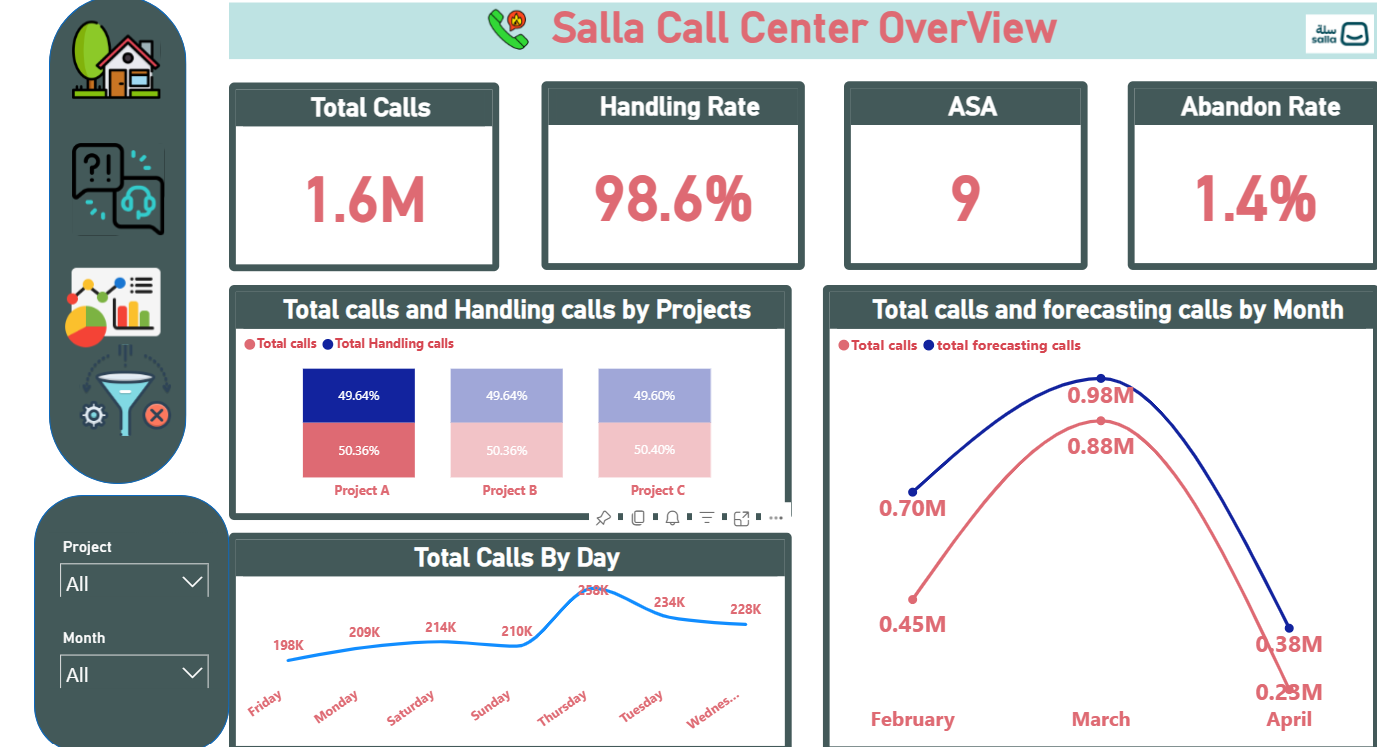

What the dashboard file says about the page in this screenshot:
{"tool":"powerbi","page":{"name":"Overview","canvas":[1280,720],"ordinal":1},"visuals":[{"type":"actionButton","title":"Salla Call Center OverView","box":[182.2,7.3,1073.6,52.6],"z":0},{"type":"actionButton","box":[1045,0,210,72.5],"z":1000},{"type":"actionButton","box":[417,7.3,302,50.1],"z":2000},{"type":"card","title":"Total Calls","fields":{"Values":["Calender.Total calls"]},"box":[182.2,81.9,251.9,176.1],"z":3000},{"type":"card","title":"Abandon Rate","fields":{"Values":["Calender.Abandon Rate"]},"box":[1019.8,80.7,236,176.1],"z":4000},{"type":"card","title":"ASA ","fields":{"Values":["Calender.All ASA"]},"box":[755.7,80.7,227.4,176.1],"z":5000},{"type":"card","title":"Handling Rate","fields":{"Values":["Calender.Handling Rate"]},"box":[473.2,80.7,245.8,176.1],"z":6000},{"type":"hundredPercentStackedColumnChart","title":"Total calls and Handling calls by Projects","fields":{"Category":["Apr.Project"],"Y":["Calender.Total calls","Calender.Total Handling calls"]},"box":[182.2,270.2,524.6,218.9],"z":7000},{"type":"lineChart","title":"Total calls and  forecasting calls by Month","fields":{"Category":["Calender.Date.Variation.Date Hierarchy.Month"],"Y":["Calender.Total calls","Calender.total forecasting calls"]},"box":[736.1,270.2,519.7,437.8],"z":8000},{"type":"lineChart","title":"Total Calls By Day","fields":{"Category":["Calender.Name of the day"],"Y":["Calender.Total calls"]},"box":[182.2,501.4,524.6,206.7],"z":9000},{"type":"shape","box":[13.5,0,128.4,456.1],"z":10000},{"type":"actionButton","box":[31.8,14.7,160.2,90.5],"z":11000},{"type":"actionButton","box":[31.8,134.5,178.5,94.2],"z":12000},{"type":"actionButton","box":[22,239.7,239.7,102.7],"z":14000},{"type":"shape","box":[0,465.9,182.2,242.1],"z":15000},{"type":"actionButton","box":[38.1,322.1,207.8,93.5],"z":16000},{"type":"slicer","fields":{"Values":["Calender.Date.Variation.Date Hierarchy.Month"]},"box":[13.5,587,159,59.9],"z":17000},{"type":"slicer","fields":{"Values":["Mar.Project"]},"box":[13.5,501.4,159,59.9],"z":18000}]}

Visuals, with their boxes in screenshot pixels (x1, y1, x2, y2):
"Salla Call Center OverView" actionButton: select_region(229, 1, 1366, 56)
actionButton: select_region(1143, 0, 1365, 70)
actionButton: select_region(478, 1, 797, 54)
"Total Calls" card: select_region(229, 80, 496, 266)
"Abandon Rate" card: select_region(1116, 78, 1366, 265)
"ASA " card: select_region(836, 78, 1077, 265)
"Handling Rate" card: select_region(537, 78, 797, 265)
"Total calls and Handling calls by Projects" hundredPercentStackedColumnChart: select_region(229, 279, 784, 511)
"Total calls and  forecasting calls by Month" lineChart: select_region(816, 279, 1366, 743)
"Total Calls By Day" lineChart: select_region(229, 524, 784, 743)
shape: select_region(50, 0, 186, 476)
actionButton: select_region(70, 8, 239, 104)
actionButton: select_region(70, 135, 259, 235)
actionButton: select_region(59, 247, 313, 355)
shape: select_region(36, 486, 229, 743)
actionButton: select_region(76, 334, 296, 433)
slicer - Calender.Date.Variation.Date Hierarchy.Month: select_region(50, 615, 219, 678)
slicer - Mar.Project: select_region(50, 524, 219, 587)
